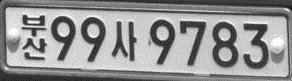3: (243, 22, 269, 69)
7: (179, 19, 206, 66)
8: (211, 20, 239, 68)
9: (50, 14, 76, 61), (80, 15, 106, 62), (149, 18, 175, 64)
부산_V: (21, 14, 47, 60)
사: (111, 20, 136, 61)
